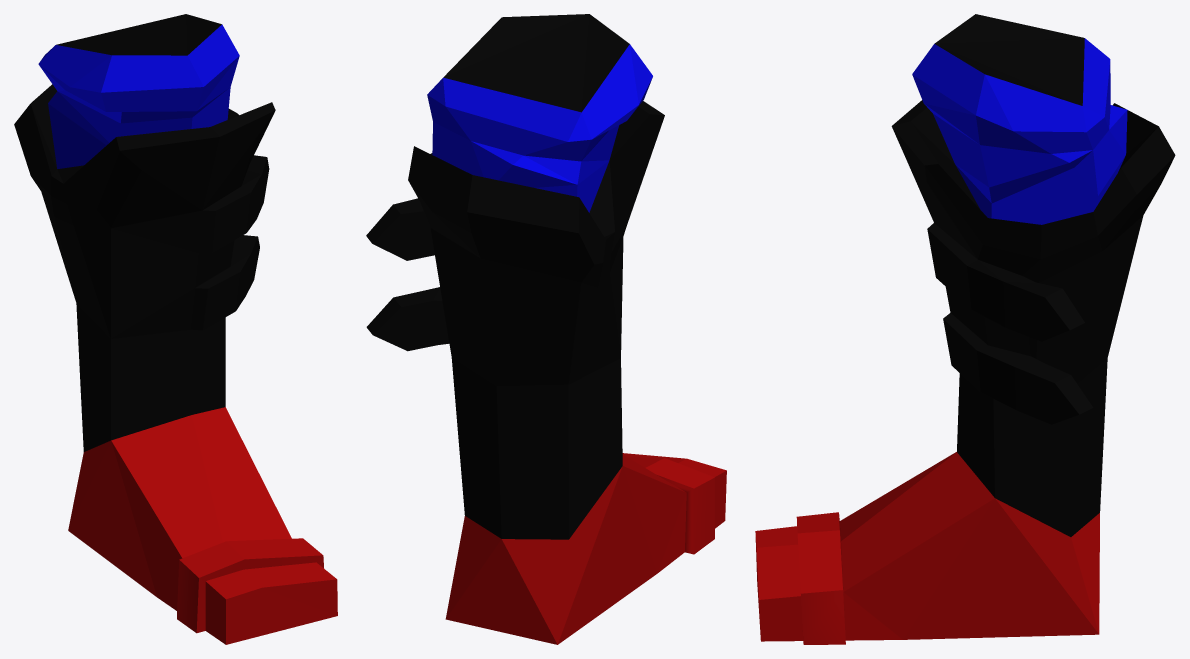
Rendered from Chr_LegRight_Male_Static_04.fbx.
The picture shows the model from 3 angles, left to right: view 1: azimuth 30°, elevation 25°; view 2: azimuth 150°, elevation 25°; view 3: azimuth 270°, elevation 25°; orthographic projection. The views are drawn at different scales.
Visible parts, largest first — view 1: Chr_LegRight_Male_04; view 2: Chr_LegRight_Male_04; view 3: Chr_LegRight_Male_04.
Part boxes in pixels (bbox=[...]): Chr_LegRight_Male_04: bbox=[14, 14, 337, 644]; Chr_LegRight_Male_04: bbox=[366, 14, 726, 644]; Chr_LegRight_Male_04: bbox=[755, 14, 1175, 644].
Size of the model in its own units: 18.43 by 40.41 by 27.43.
